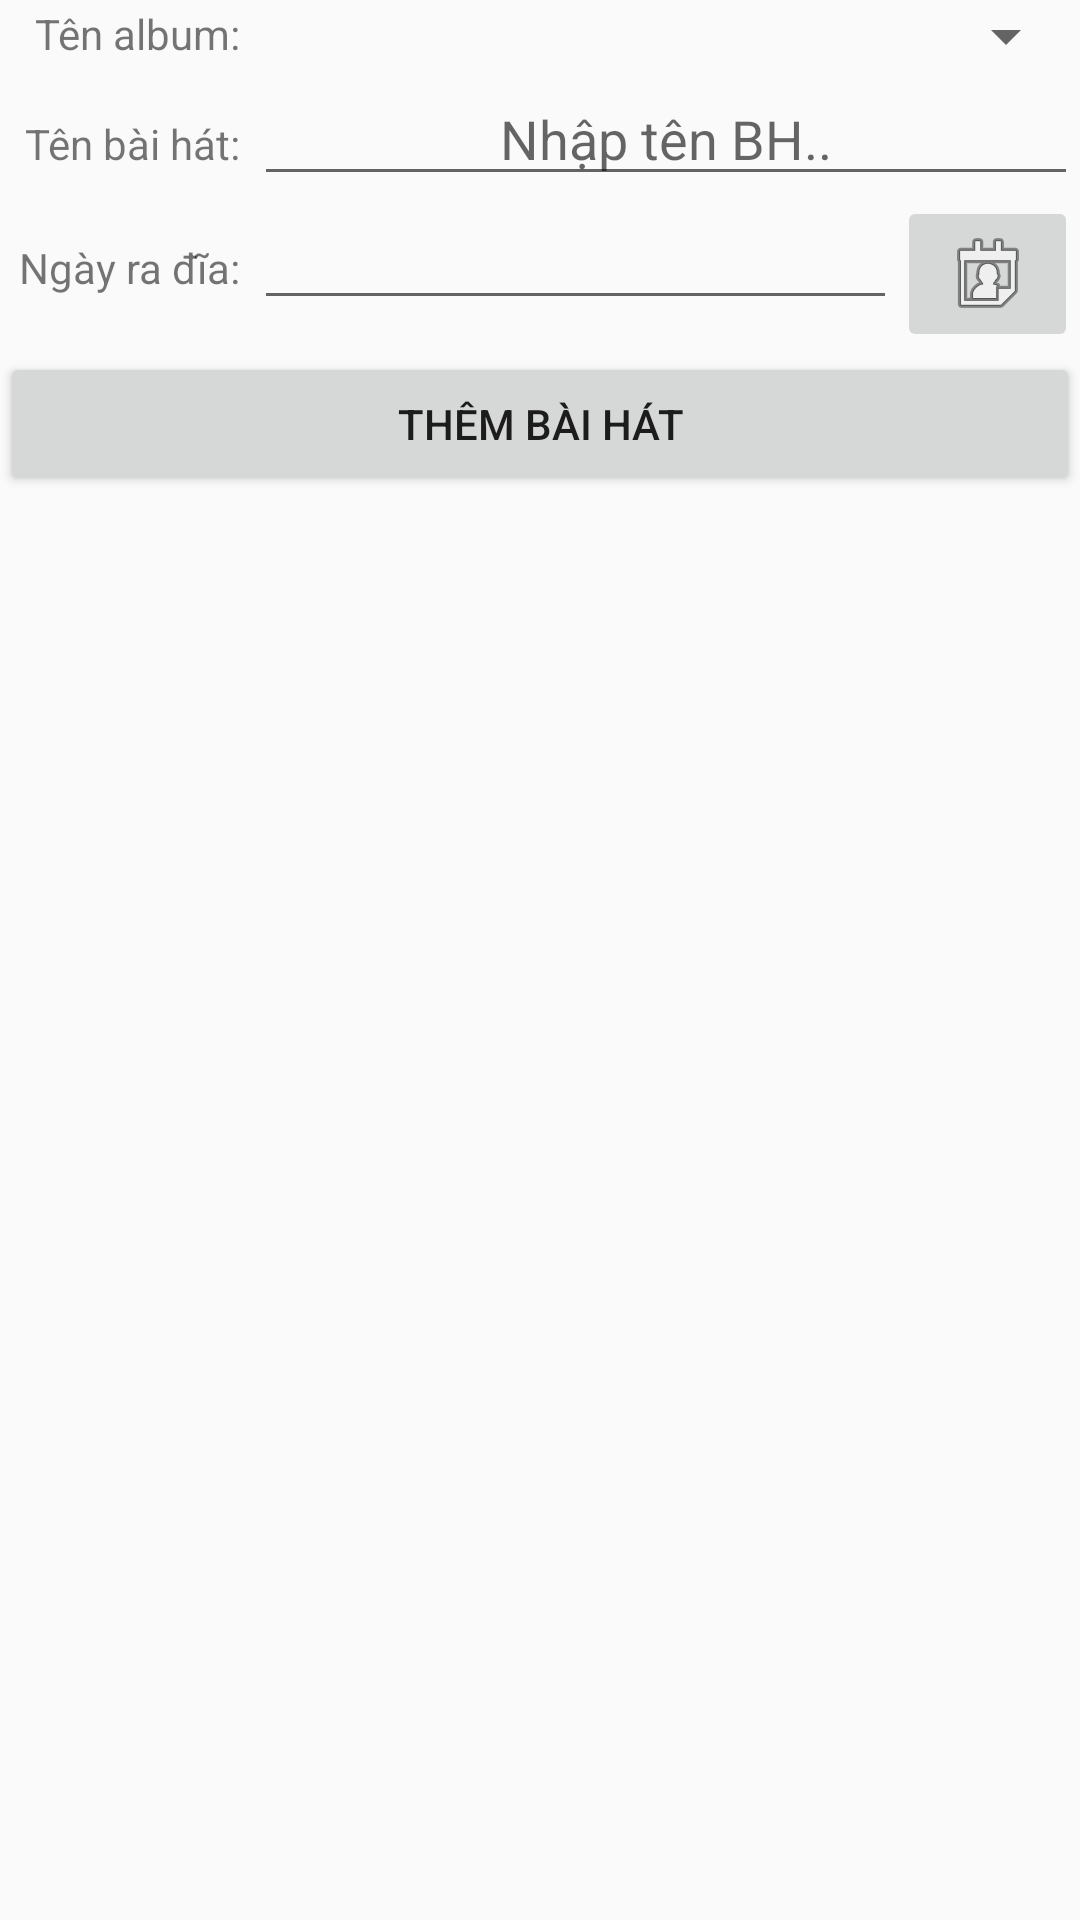

Point at icon controls on the screen. Image size 1080w x 1920h, points as (x=x, y=y).
calendar: (x=987, y=274)
